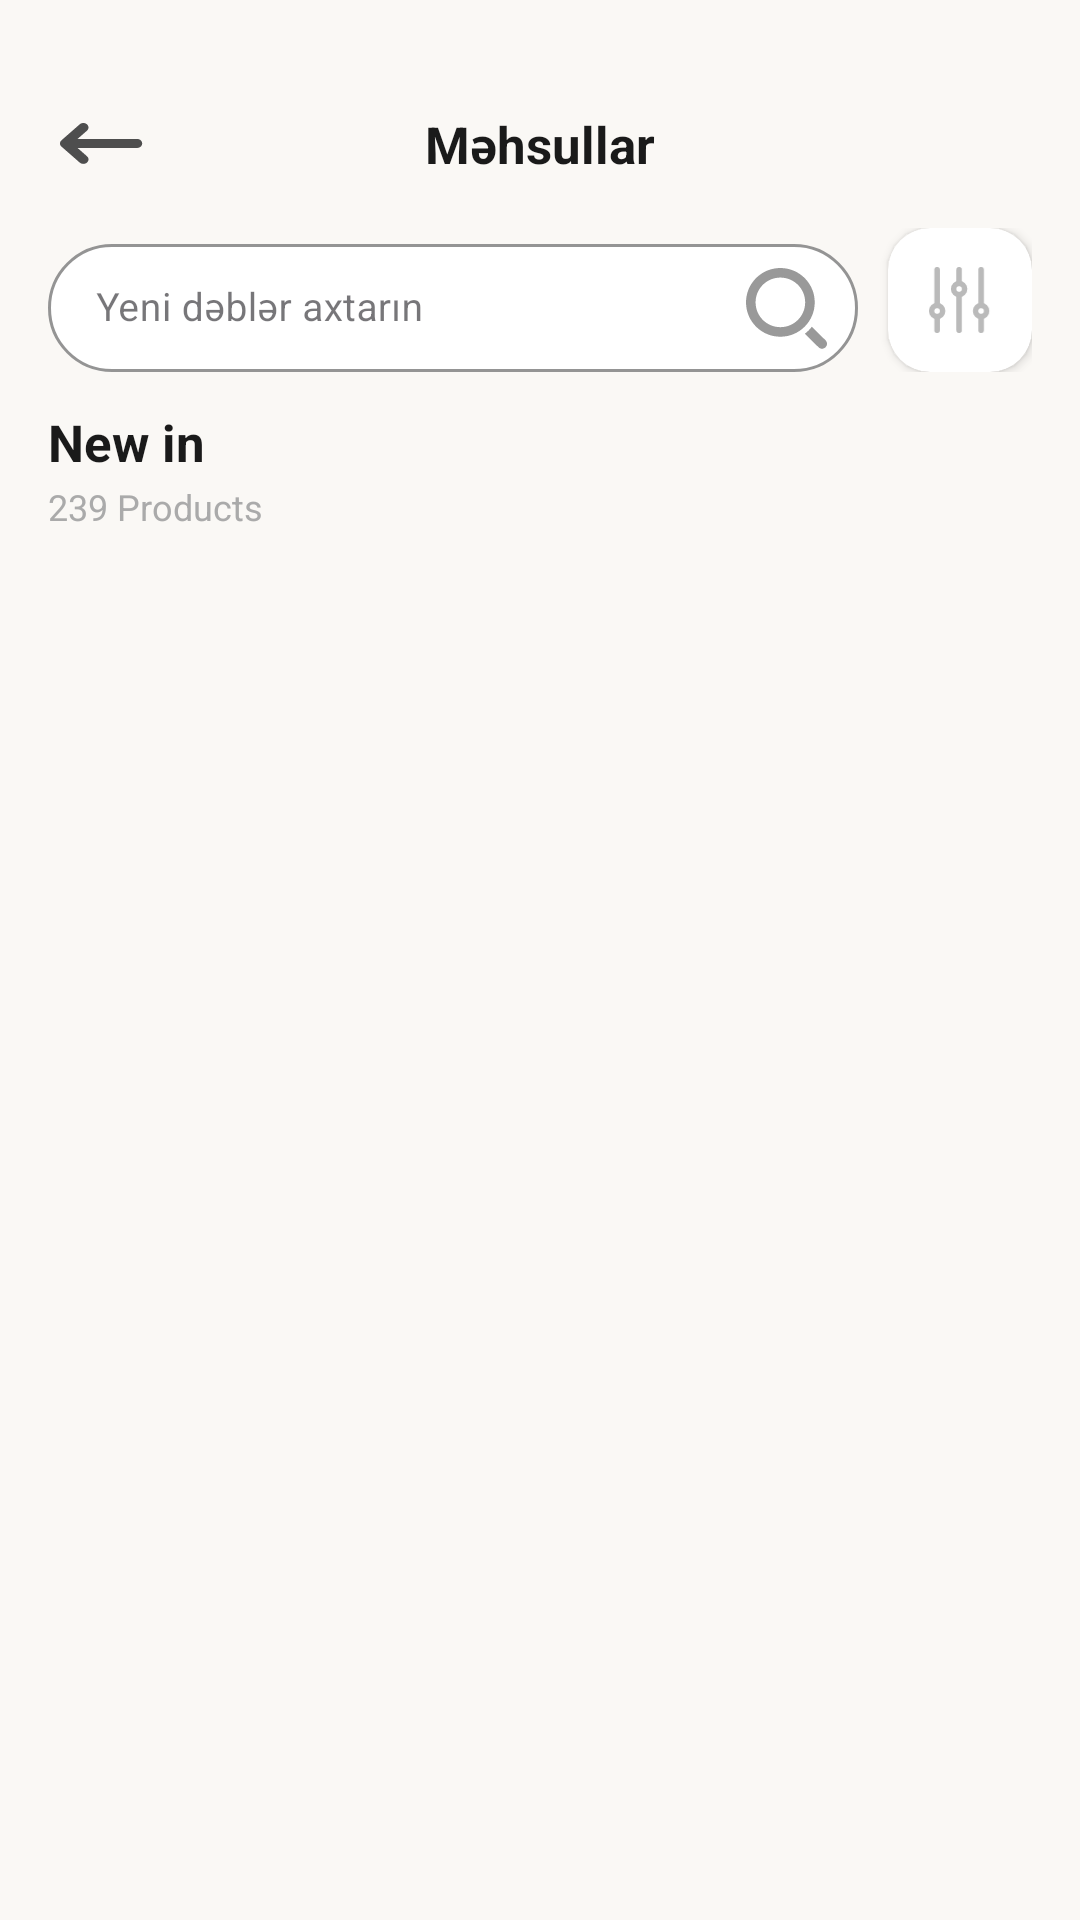

Screen size 1080px×1920px. Icon name, then its center in pixels as point (x, y):
Filter: point (959, 300)
Geri: point (101, 143)
